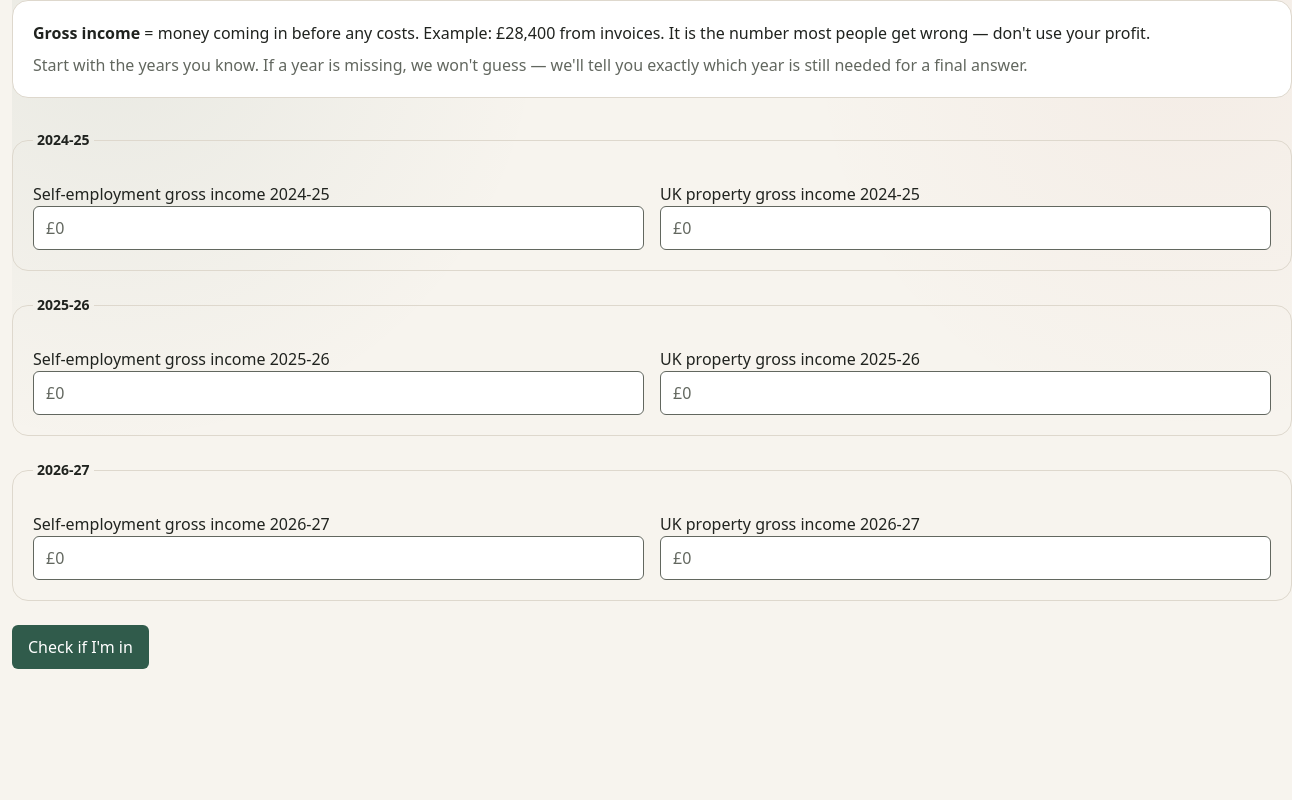
Scenario: eligibility form › rejects non-numeric input with an inline field error and no verdict
Type "abc" into the field labelled "Self-employment gross income 2024-25". click: (338, 228)
box: x1=33 y1=206 x2=644 y2=250
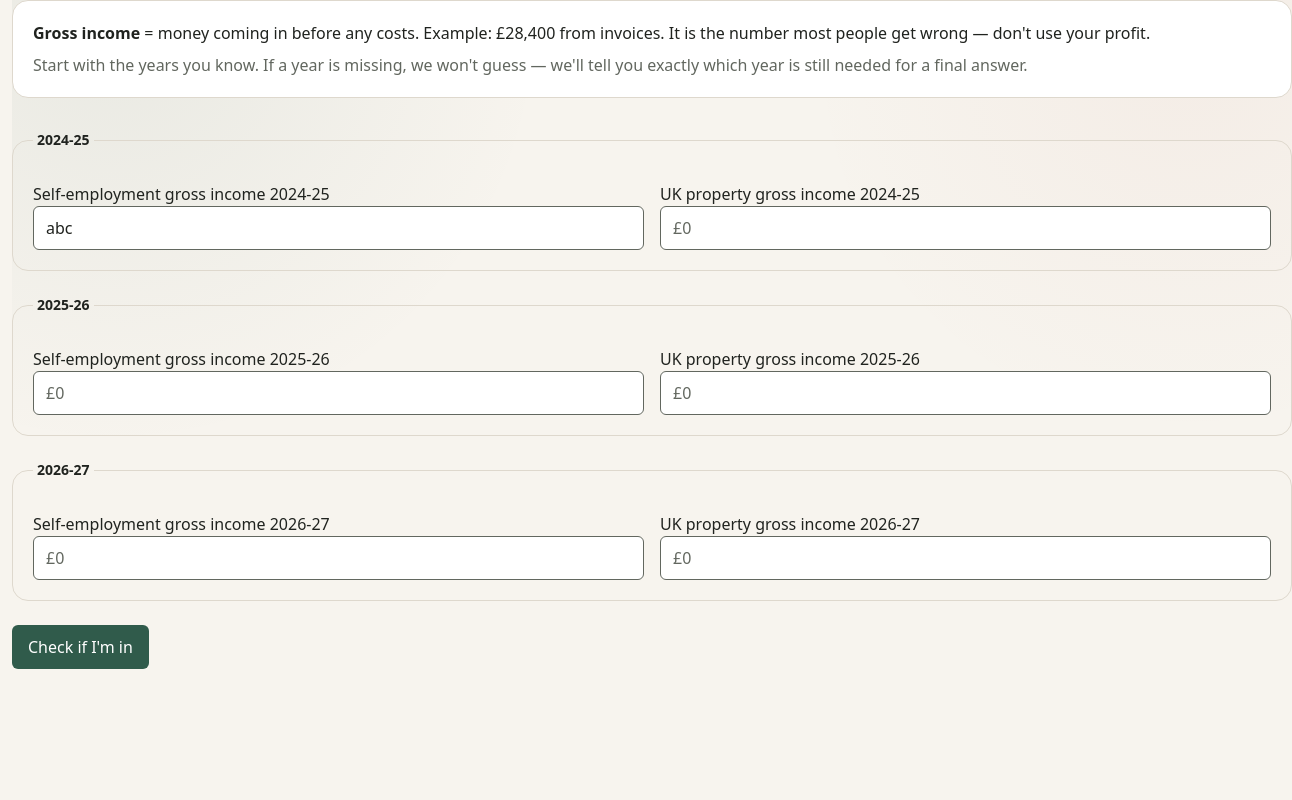
Click the button "Check if I'm in". click: (80, 647)
box: x1=12 y1=625 x2=149 y2=669
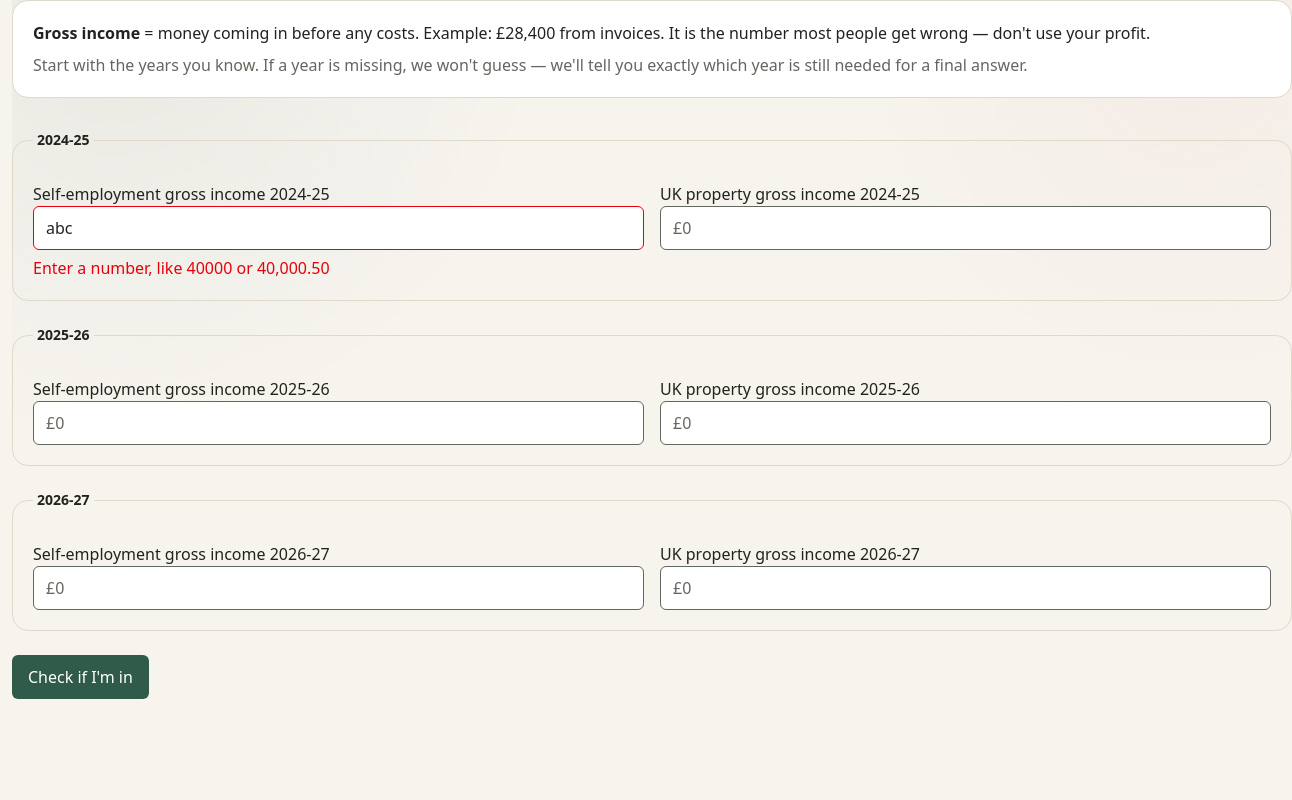
Expected: the text "Enter a number, like 40000 or 40,000.50" is shown, x1=33 y1=257 x2=330 y2=279
